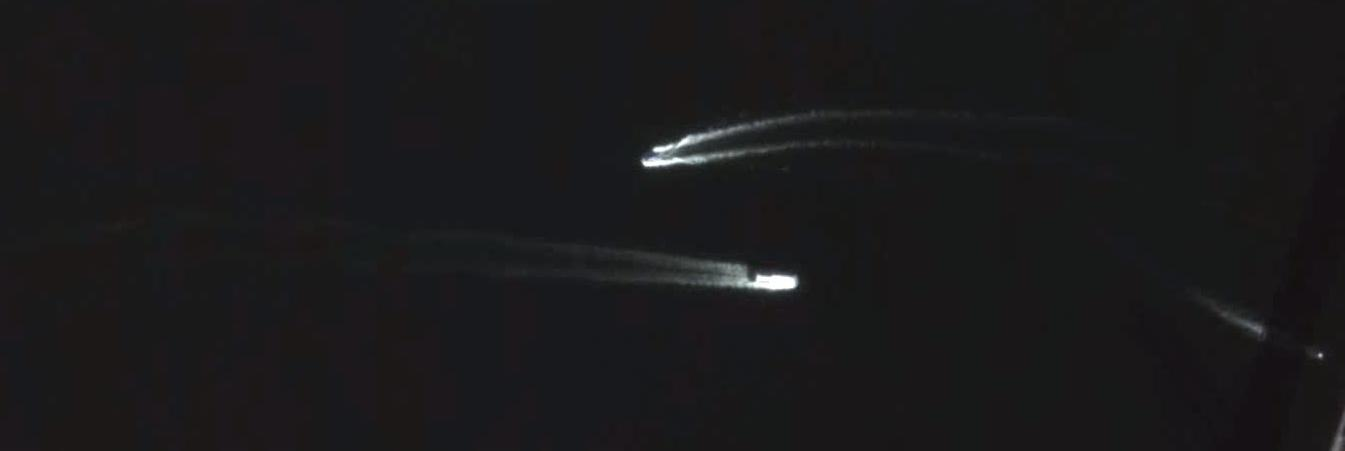person: (757, 272, 798, 291), (1294, 342, 1325, 363), (641, 152, 666, 160)
